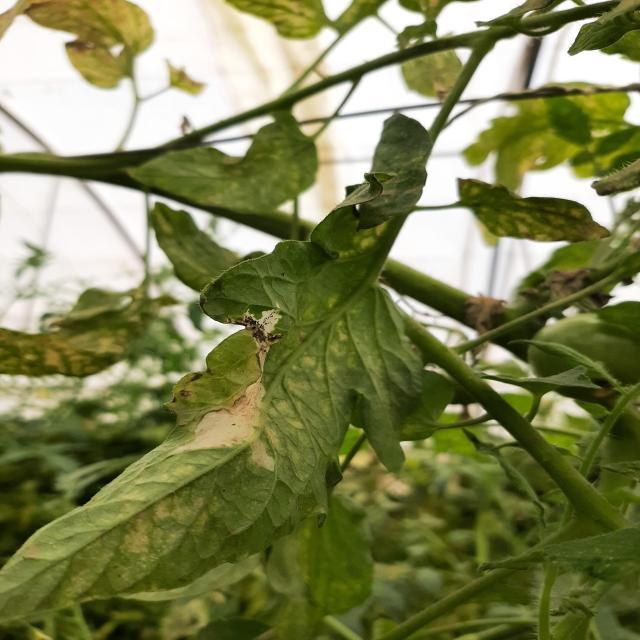Tuta absoluta: (169, 297, 300, 473)
